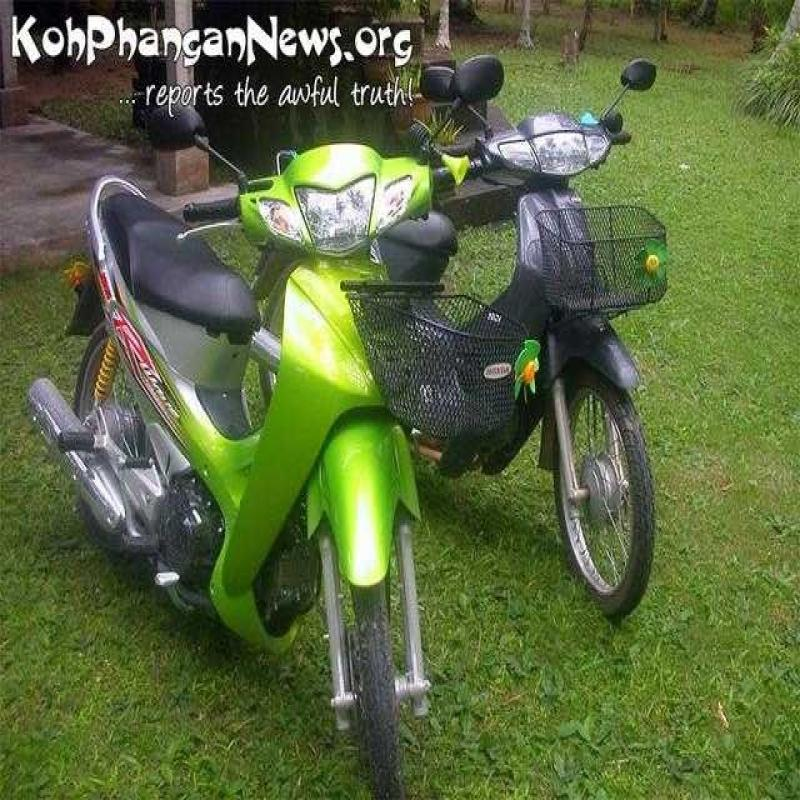bike: (60, 55, 430, 768), (384, 36, 710, 644)
